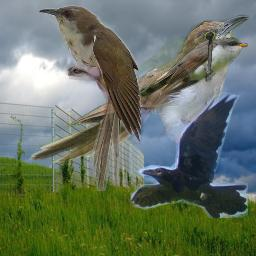Crow: (129, 92, 248, 218)
Cuckoo: (28, 14, 249, 163), (38, 4, 141, 191), (129, 36, 248, 98)
